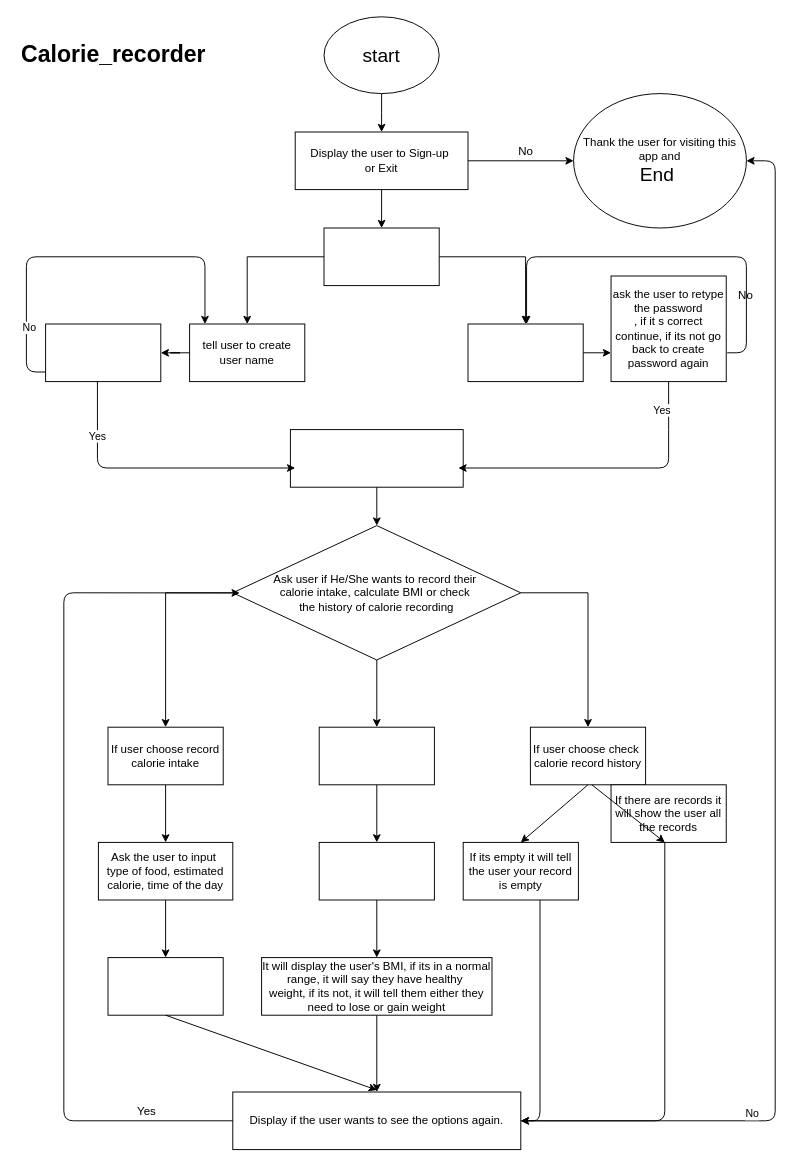
Image size: 800x1166. Some labels were removed from this diagram. Each missing label, with the centre of its shape:
ask the user if his sure to using the current username: the point at 103,352
Ask the user's weight(kg), height(meter), like: 1.82m: the point at 376,870
Give set of instruction to the user and let user to log in: the point at 376,458
If user choose calculate BMI: the point at 376,755
It will display the user input: the point at 165,986
Let user to create an account: the point at 381,256
tell user to create password: the point at 525,352
